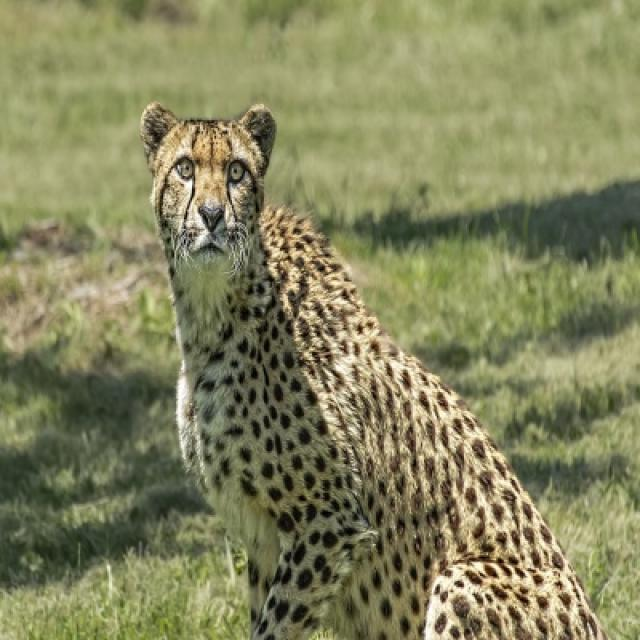Cheetah: (142, 102, 602, 638)
